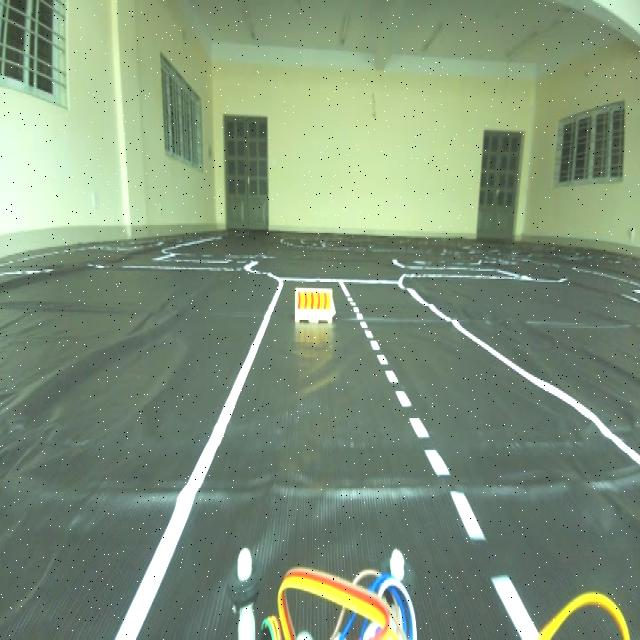roadblock: (290, 276, 338, 326)
